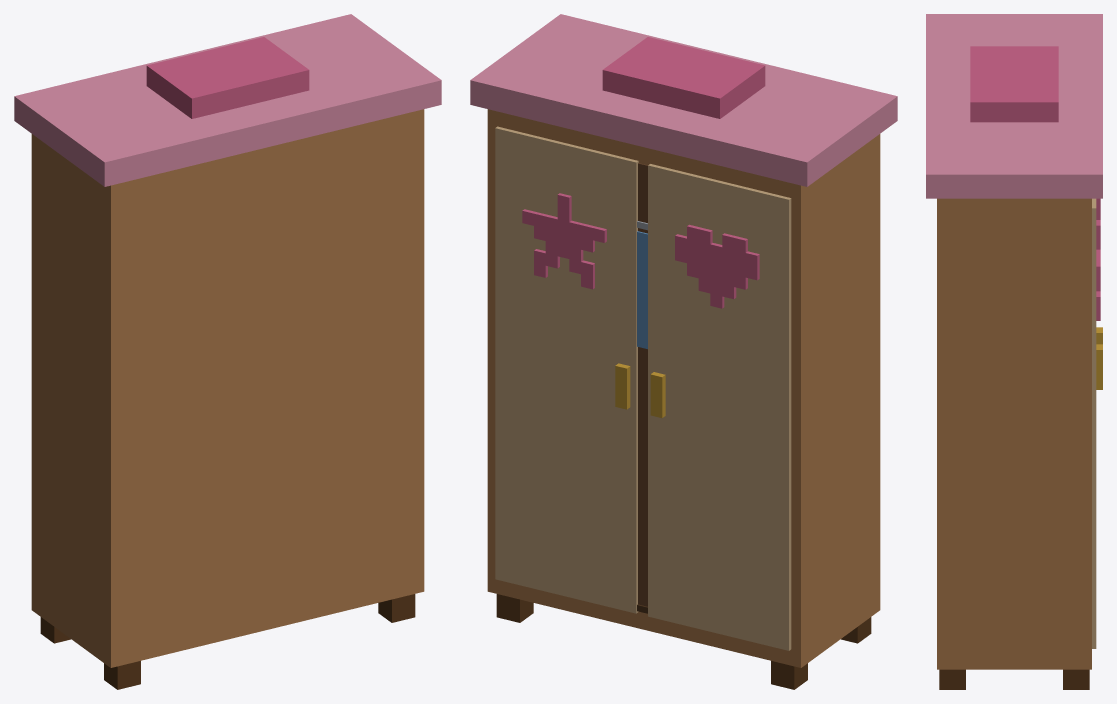
Rendered from ncb-wardrobe.glb.
3 renders of one model, left to right at view 1: azimuth 30°, elevation 25°; view 2: azimuth 150°, elevation 25°; view 3: azimuth 270°, elevation 25°, orthographic. The views are drawn at different scales.
Visible parts, largest first — view 1: box-prop; view 2: box-prop, part-door-left, part-door-right; view 3: box-prop, part-door-right.
Boxes of the visible parts, x1,y1,x2,y2 form: box-prop: (14,14,441,689); box-prop: (470,14,897,689); part-door-left: (648,164,791,650); part-door-right: (495,126,638,613); box-prop: (926,14,1102,689); part-door-right: (1092,198,1102,648).
Size of the model in its own units: 1.72 by 2.72 by 0.8.
